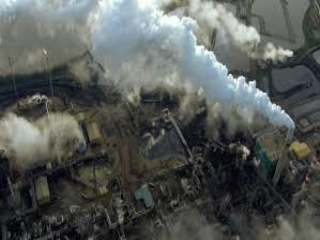smoke: (182, 39, 303, 142), (202, 6, 302, 66), (5, 111, 90, 161)
